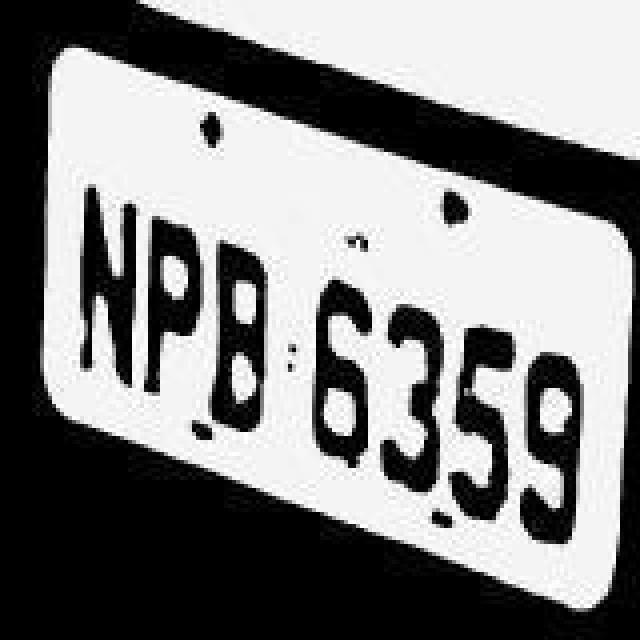3: (372, 262, 444, 506)
5: (442, 286, 518, 530)
6: (304, 254, 376, 482)
9: (516, 316, 588, 556)
B: (204, 236, 276, 436)
N: (64, 116, 136, 396)
P: (138, 200, 206, 408)
